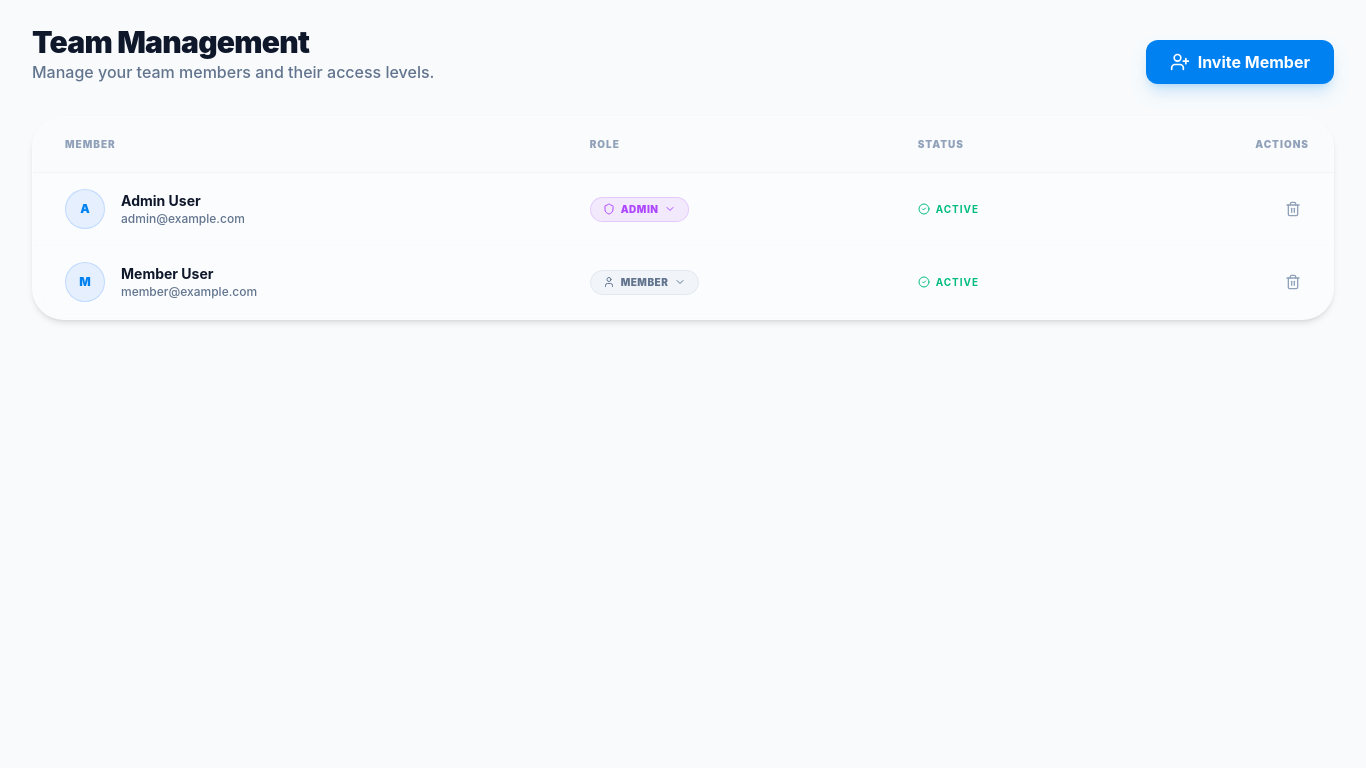
UserManagement › should allow inviting a new user
This screenshot has width=1366, height=768.
Expected: the text "Admin User" is shown, x1=121 y1=192 x2=201 y2=209
Click the button "Invite Member" at (1240, 62), box x1=1146 y1=40 x2=1334 y2=84
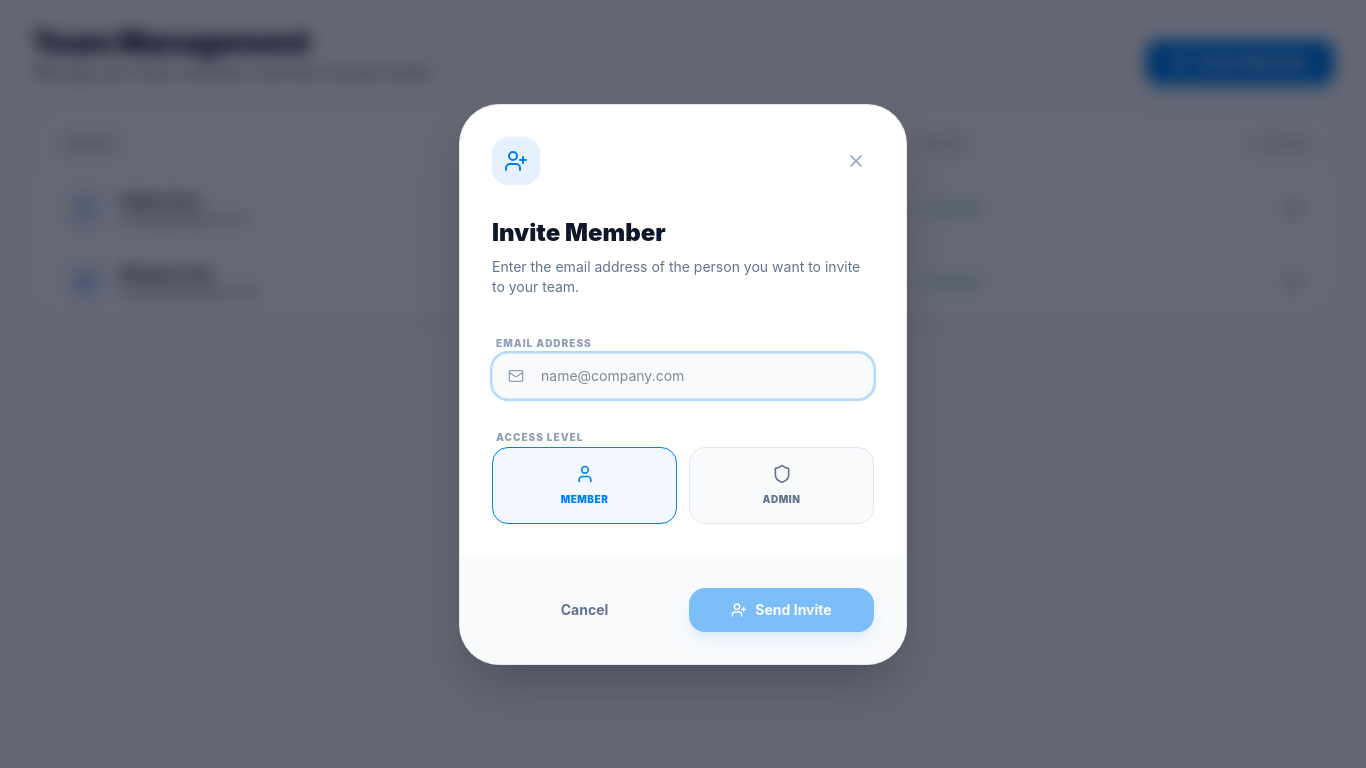
Type "new@example.com" into the field with placeholder "name@company.com" at (683, 376), box x1=492 y1=352 x2=874 y2=398
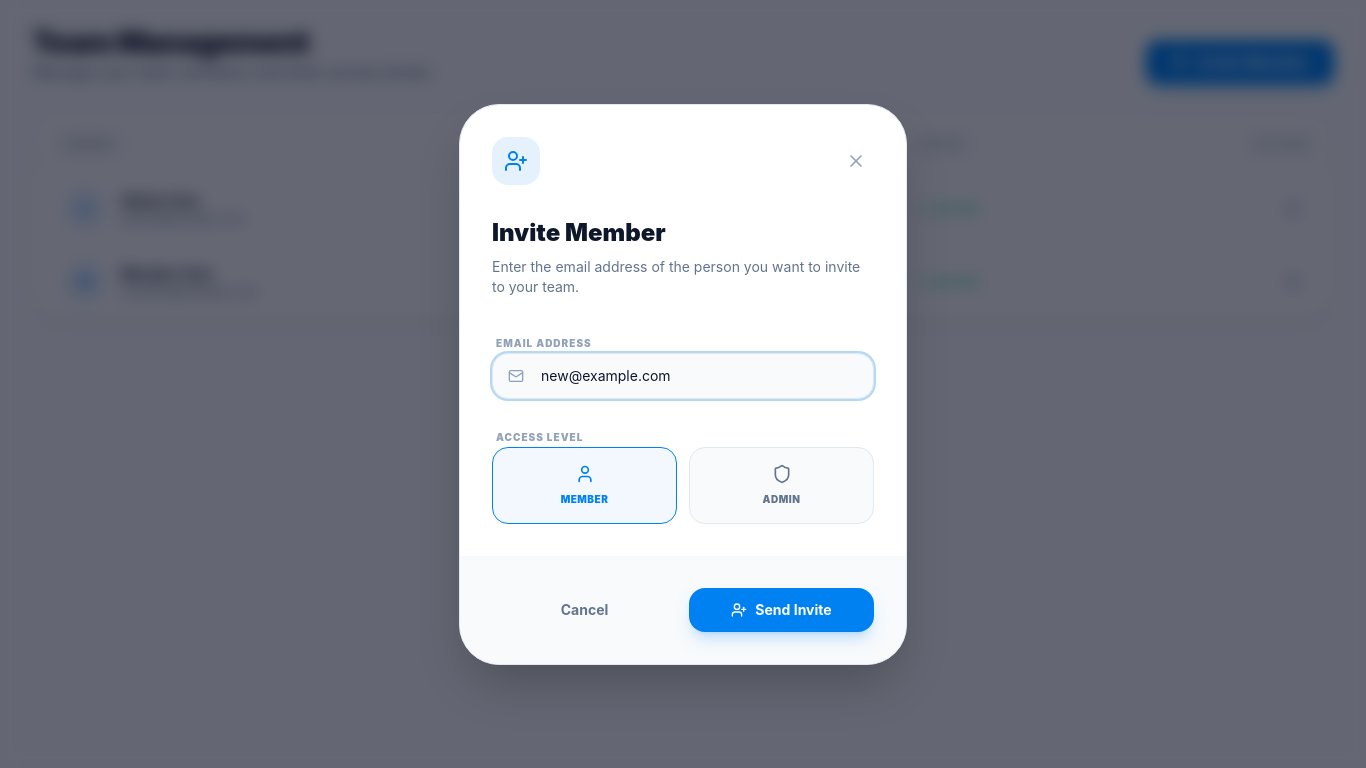
Click the button "Send Invite" at (782, 610), box x1=689 y1=588 x2=874 y2=632
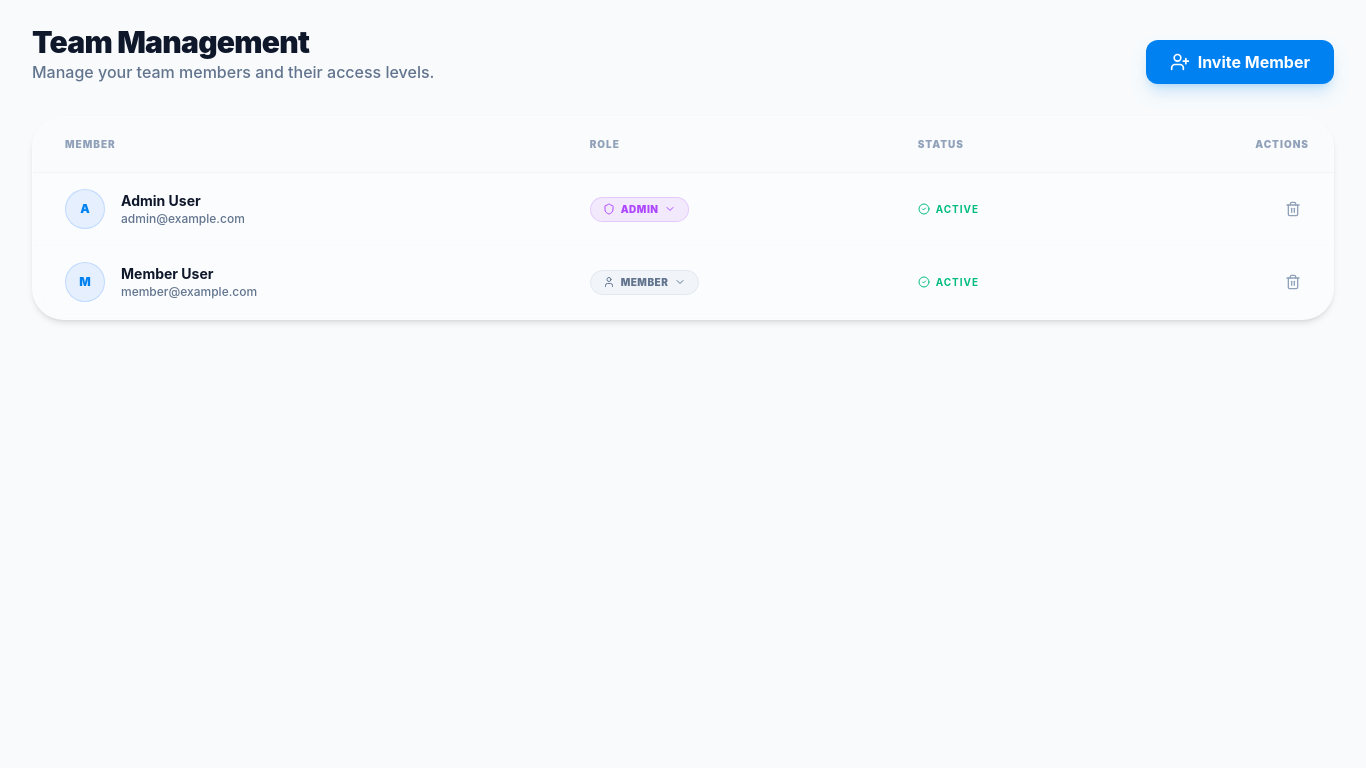
Expected: the text "Enter the email address of the person you want to invite to your team." is gone
